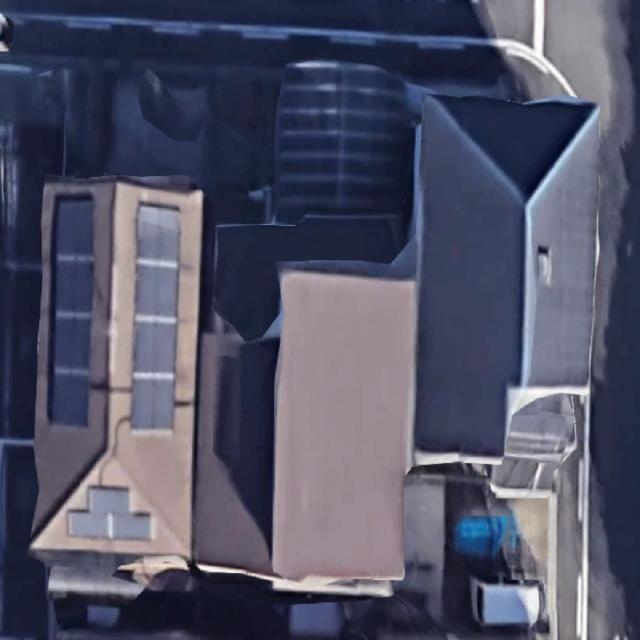Batiment: (30, 178, 202, 599), (415, 95, 599, 456), (272, 270, 416, 579)
